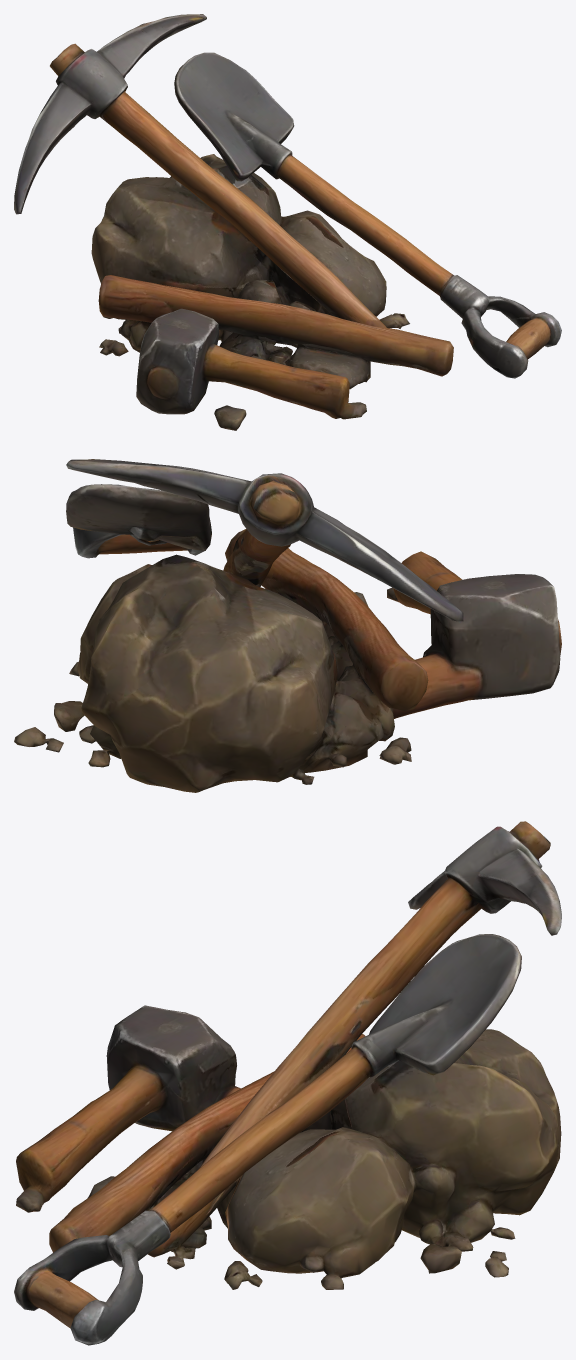
File: Mining_Tools.glb
3 views of the same model, one above another, from view 1: azimuth 30°, elevation 25°; view 2: azimuth 150°, elevation 25°; view 3: azimuth 270°, elevation 25° (orthographic). The views are drawn at different scales.
Parts seen in each view (by area): view 1: Mesh1.0; view 2: Mesh1.0; view 3: Mesh1.0.
Boxes of the visible parts, box(x1,y1,x2,y2) form: Mesh1.0: box(14, 14, 561, 430); Mesh1.0: box(14, 459, 561, 792); Mesh1.0: box(14, 821, 561, 1345).
Size of the model in its own units: 1.92 by 1.14 by 1.68.
1 material, 1 textured.
